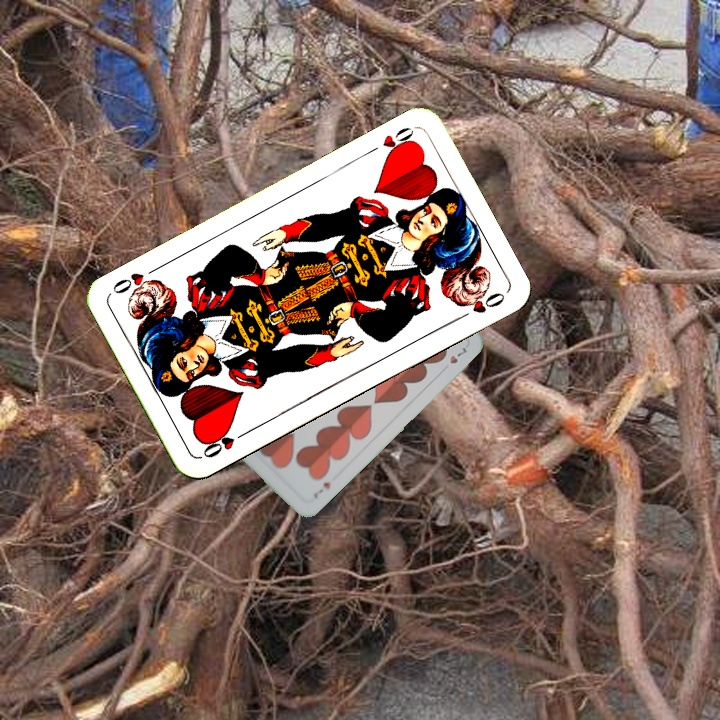H7: (309, 478, 333, 501)
HO: (363, 122, 419, 160), (198, 426, 252, 461)
